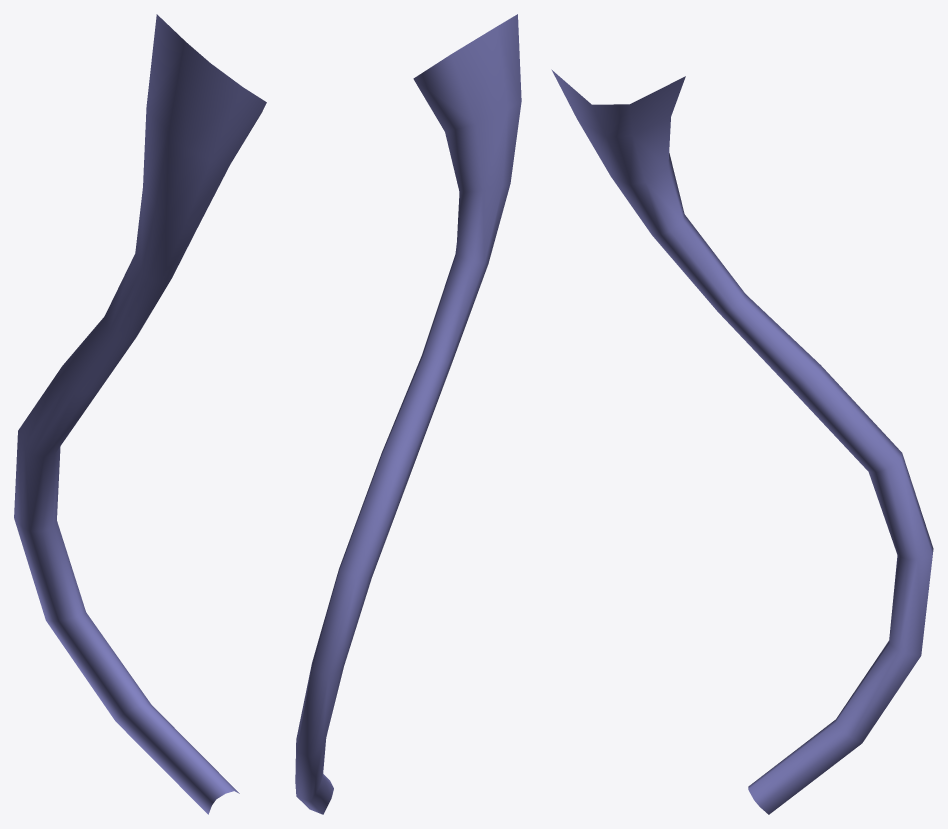
Rendered from Amygdala_Trans.gltf.
3 views of the same model, side by side, from view 1: azimuth 30°, elevation 25°; view 2: azimuth 150°, elevation 25°; view 3: azimuth 270°, elevation 25° (orthographic). The views are drawn at different scales.
Parts seen in each view (by area): view 1: Amygdala; view 2: Amygdala; view 3: Amygdala.
Part boxes in pixels (x1,y1,x2,y2): Amygdala: (14, 14, 266, 814); Amygdala: (295, 14, 521, 814); Amygdala: (551, 69, 933, 814).
Bounding box in the file's own units: 0.2552 × 1.39 × 0.6452.
